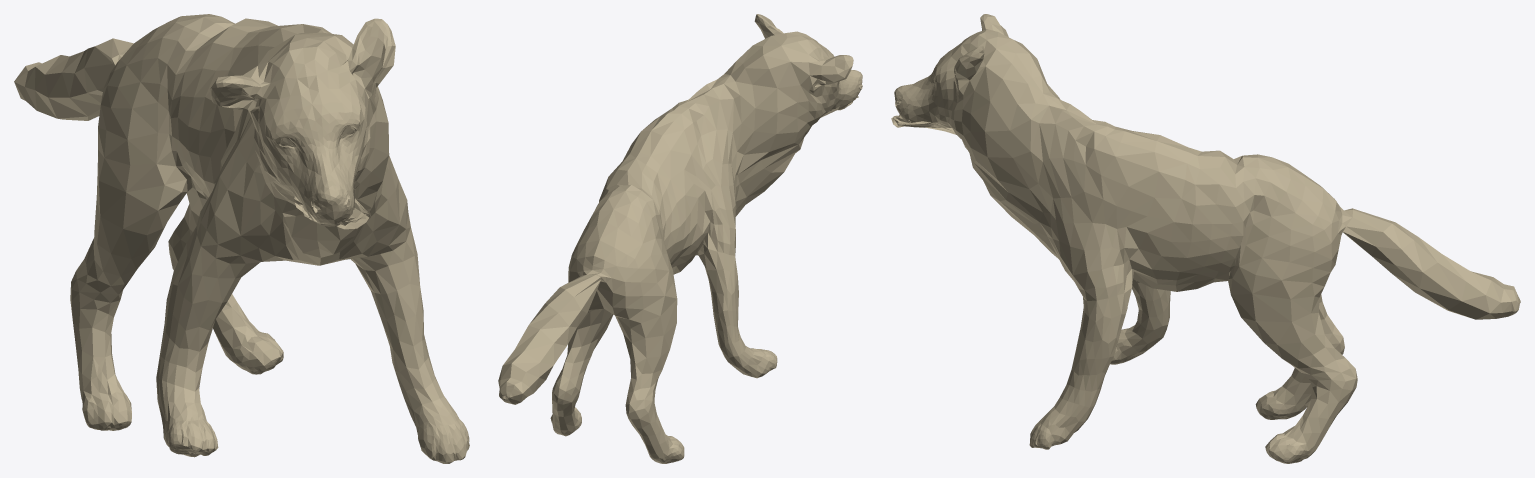
The picture shows the model from 3 angles, left to right: view 1: azimuth 30°, elevation 25°; view 2: azimuth 150°, elevation 25°; view 3: azimuth 270°, elevation 25°; orthographic projection. The views are drawn at different scales.
Parts seen in each view (by area): view 1: world; view 2: world; view 3: world.
Boxes of the visible parts, bbox=[...] form: world: bbox=[14, 14, 469, 463]; world: bbox=[498, 14, 862, 463]; world: bbox=[891, 14, 1520, 463].
Size of the model in its own units: 0.4852 by 0.8571 by 1.25.
